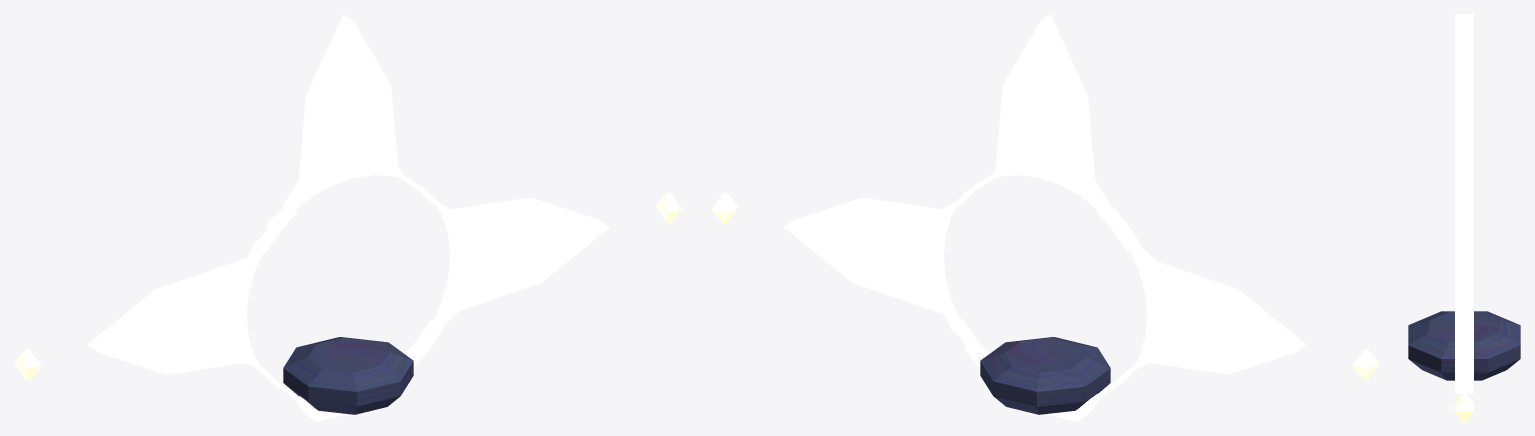
File: AT_StarBuoy.fbx
3 renders of one model, left to right at view 1: azimuth 30°, elevation 25°; view 2: azimuth 150°, elevation 25°; view 3: azimuth 270°, elevation 25°, orthographic. The views are drawn at different scales.
Visible parts, largest first — view 1: StarFrame, Float; view 2: StarFrame, Float; view 3: StarFrame, Float, SideGlint_L.
Boxes of the visible parts, <box> form: StarFrame: <box>87,14,609,421</box>; Float: <box>283,337,413,414</box>; StarFrame: <box>784,14,1306,421</box>; Float: <box>980,337,1110,414</box>; StarFrame: <box>1455,14,1473,393</box>; Float: <box>1408,311,1520,380</box>; SideGlint_L: <box>1455,393,1473,421</box>.
Size of the model in its own units: 18.49 by 10.5 by 2.96.
Materials: 1 (1 with a texture image).
